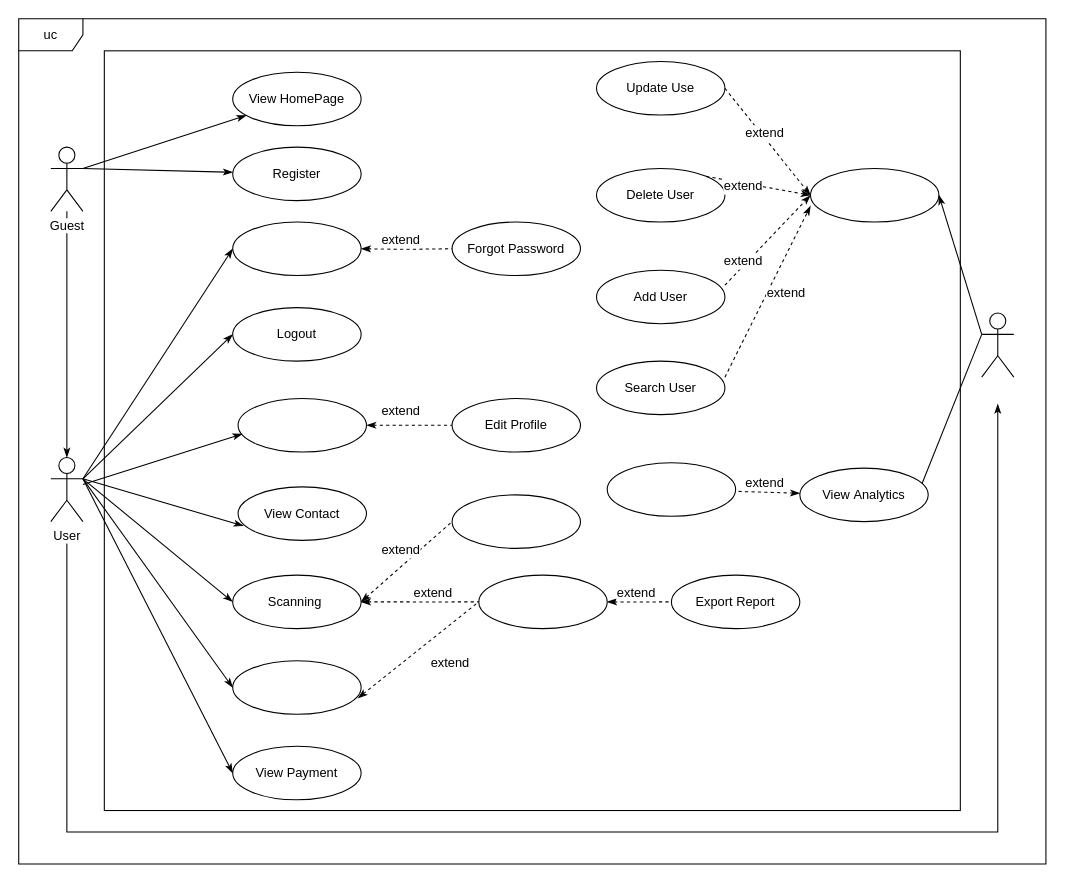
Some shapes in this 1065 by 883 pixel diagram are drawn without their labels. Here are the shapes that lost their labels. From the top down, the centre of each, then its label:
At (x=874, y=194): "View List User".
At (x=296, y=248): "Login".
At (x=997, y=344): "Admin".
At (x=301, y=425): "View Profile".
At (x=671, y=489): "Export Analytics report".
At (x=515, y=521): "View Result".
At (x=542, y=601): "View Report".
At (x=296, y=687): "View Scanning History".
